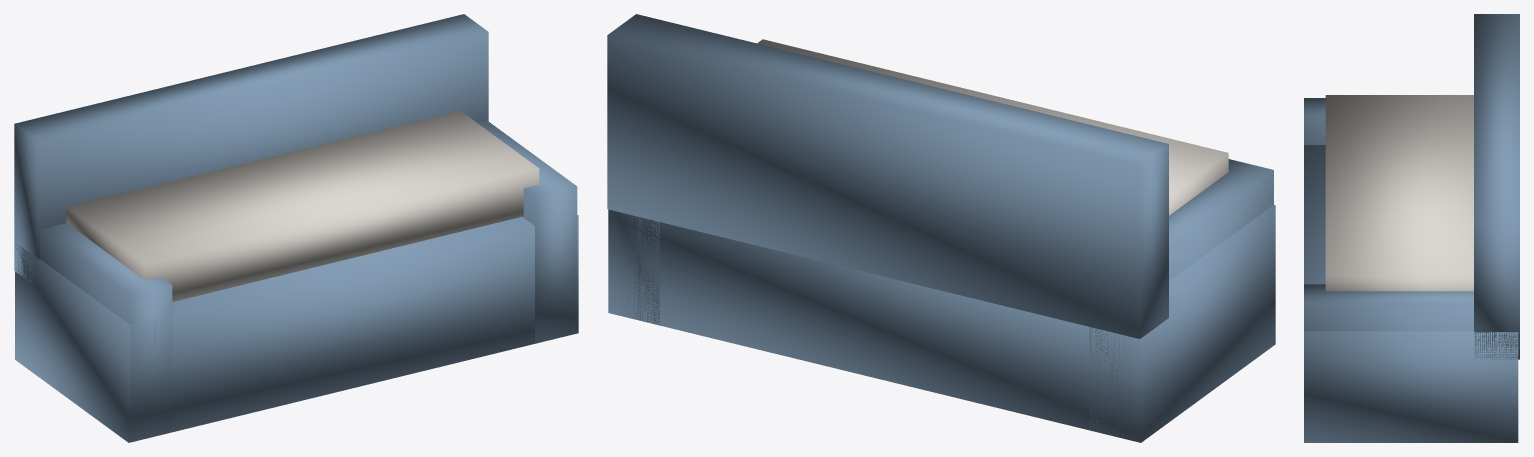
File: furn_sofa.glb
The picture shows the model from 3 angles, left to right: view 1: azimuth 30°, elevation 25°; view 2: azimuth 150°, elevation 25°; view 3: azimuth 270°, elevation 25°; orthographic projection. The views are drawn at different scales.
Parts seen in each view (by area): view 1: base, cushion, back, arm_-0.72, arm_0.72; view 2: back, base, arm_-0.72, cushion, arm_0.72; view 3: cushion, base, back, arm_0.72, arm_-0.72.
Part boxes in pixels (<box>): base: <box>15,215,578,442</box>; cushion: <box>66,111,539,301</box>; back: <box>14,14,488,283</box>; arm_-0.72: <box>40,223,172,441</box>; arm_0.72: <box>477,120,577,343</box>; back: <box>607,14,1168,338</box>; base: <box>608,205,1275,442</box>; arm_-0.72: <box>1089,159,1273,434</box>; cushion: <box>757,39,1228,215</box>; arm_0.72: <box>610,210,659,324</box>; cushion: <box>1325,95,1473,291</box>; base: <box>1304,145,1518,442</box>; back: <box>1474,14,1519,359</box>; arm_0.72: <box>1304,284,1473,331</box>; arm_-0.72: <box>1304,98,1325,144</box>.
Bounding box in the file's own units: 1.6 × 0.8 × 0.705.
